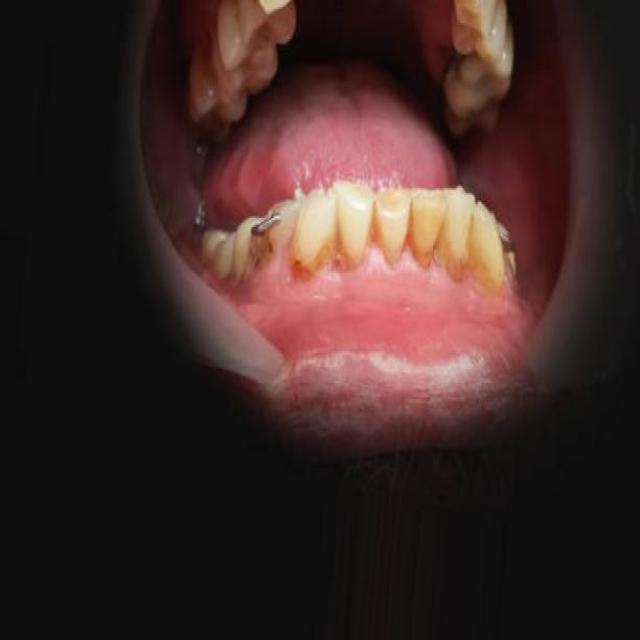caries: (245, 210, 282, 278), (288, 242, 308, 289)
